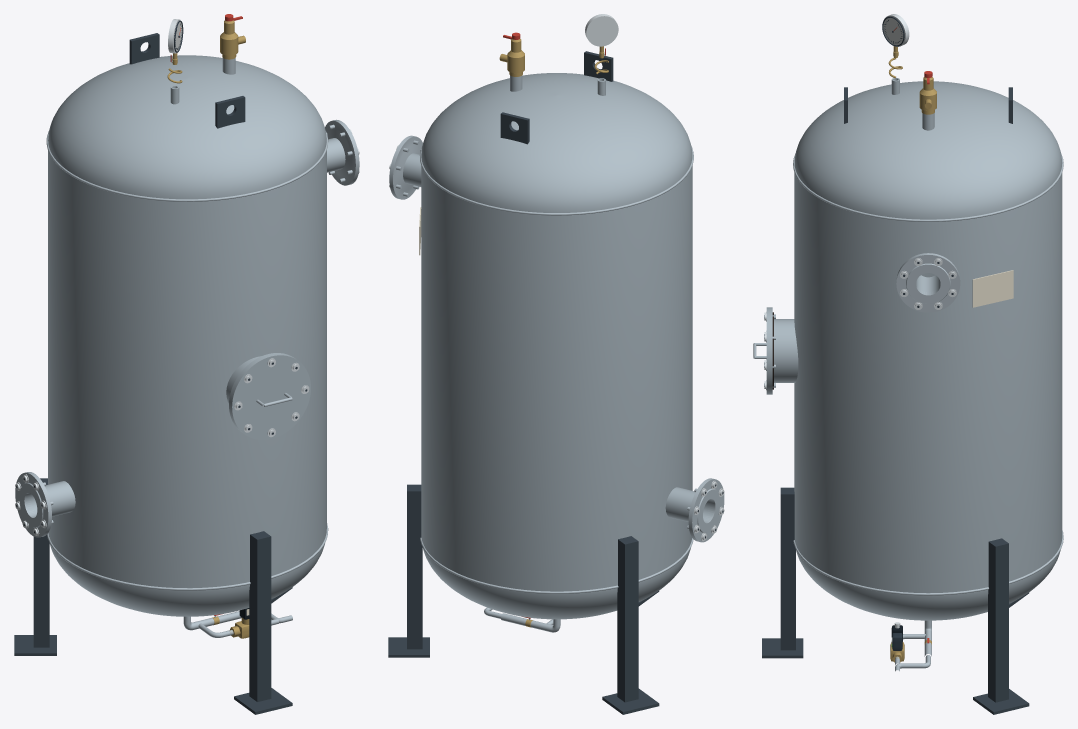
File: receiver.glb
3 renders of one model, left to right at view 1: azimuth 30°, elevation 25°; view 2: azimuth 150°, elevation 25°; view 3: azimuth 270°, elevation 25°, orthographic. The views are drawn at different scales.
Visible parts, largest first — view 1: Vỏ có độ dày, Chân, Cửa thăm, Vỏ bình tích áp, Mặt bích vào, Tai cẩu, Mặt bích ra, Xả đáy tay và tự động, Van an toàn; view 2: Vỏ có độ dày, Chân, Vỏ bình tích áp, Mặt bích vào, Tai cẩu, Mặt bích ra, Đồng hồ áp suất và ống xi phông, Van an toàn, Xả đáy tay và tự động; view 3: Vỏ có độ dày, Chân, Mặt bích ra, Vỏ bình tích áp, Biển tên bình, Cửa thăm, Đồng hồ áp suất và ống xi phông, Xả đáy tay và tự động, Van an toàn.
Boxes of the visible parts, box(x1,y1,x2,y2) form: Vỏ có độ dày: box(25, 55, 345, 616); Chân: box(14, 478, 292, 714); Cửa thăm: box(229, 353, 310, 439); Vỏ bình tích áp: box(46, 131, 328, 590); Mặt bích vào: box(15, 472, 53, 537); Tai cẩu: box(129, 33, 245, 128); Mặt bích ra: box(325, 119, 359, 185); Xả đáy tay và tự động: box(183, 611, 292, 637); Van an toàn: box(220, 14, 245, 59); Vỏ có độ dày: box(403, 73, 714, 619); Chân: box(388, 484, 659, 714); Vỏ bình tích áp: box(419, 146, 693, 593); Mặt bích vào: box(687, 478, 724, 542); Tai cẩu: box(500, 51, 613, 144); Mặt bích ra: box(389, 135, 422, 199); Đồng hồ áp suất và ống xi phông: box(585, 14, 618, 52); Van an toàn: box(499, 32, 524, 76); Xả đáy tay và tự động: box(484, 607, 560, 632); Vỏ có độ dày: box(774, 77, 1062, 620); Chân: box(762, 487, 1029, 714); Mặt bích ra: box(896, 253, 960, 312); Vỏ bình tích áp: box(793, 153, 1063, 595); Biển tên bình: box(972, 270, 1013, 307); Cửa thăm: box(753, 307, 775, 394); Đồng hồ áp suất và ống xi phông: box(882, 14, 909, 52); Xả đáy tay và tự động: box(895, 620, 931, 671); Van an toàn: box(919, 71, 936, 114).
Bounding box in the file's own units: 6.8 × 13.29 × 6.03.
